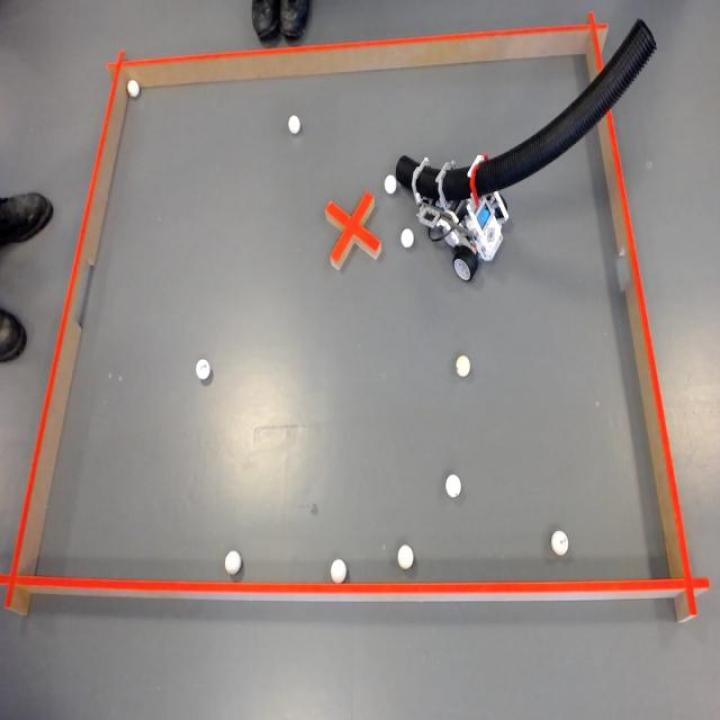robot: (396, 20, 657, 282)
white: (550, 525, 570, 557), (444, 473, 465, 501), (330, 557, 350, 584), (456, 352, 474, 378), (398, 544, 414, 570), (224, 552, 243, 573), (195, 359, 212, 380), (288, 112, 302, 136), (127, 79, 142, 101), (384, 173, 398, 196), (401, 228, 415, 249)
